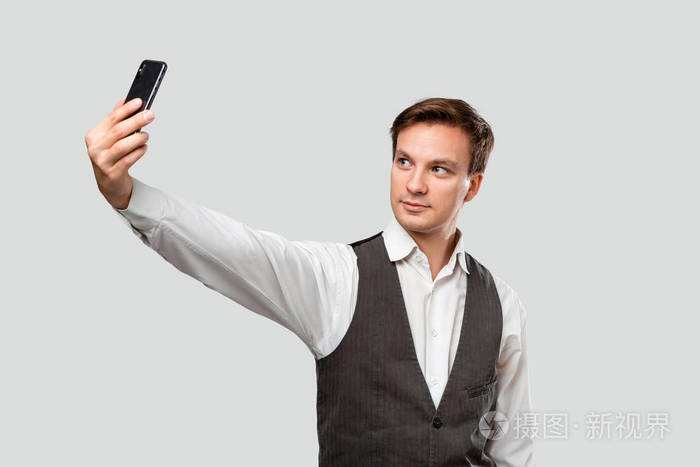taking photos: (81, 56, 170, 200)
